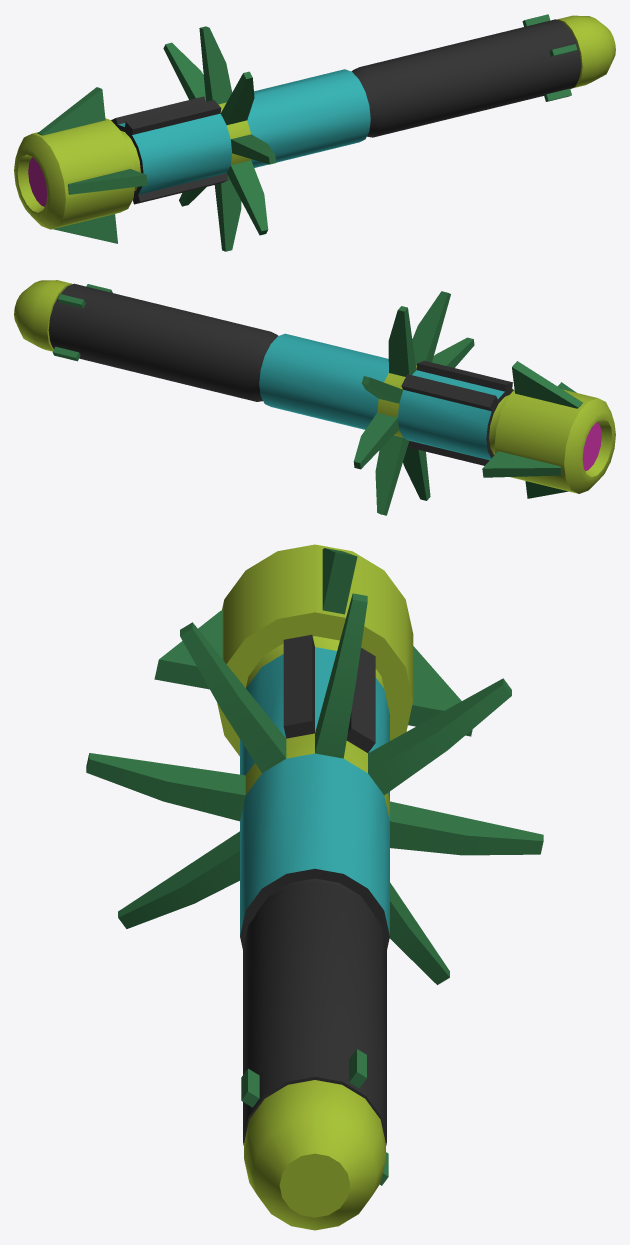
Rendered from Missile.fbx.
3 renders of one model, top to bottom at view 1: azimuth 30°, elevation 25°; view 2: azimuth 150°, elevation 25°; view 3: azimuth 270°, elevation 25°, orthographic. The views are drawn at different scales.
Parts seen in each view (by area): view 1: missil; view 2: missil; view 3: missil.
Boxes of the visible parts, <box> form: missil: <box>14,14,615,251</box>; missil: <box>14,280,615,515</box>; missil: <box>86,544,543,1230</box>.
Size of the model in its own units: 7.54 by 2.6 by 2.6.
